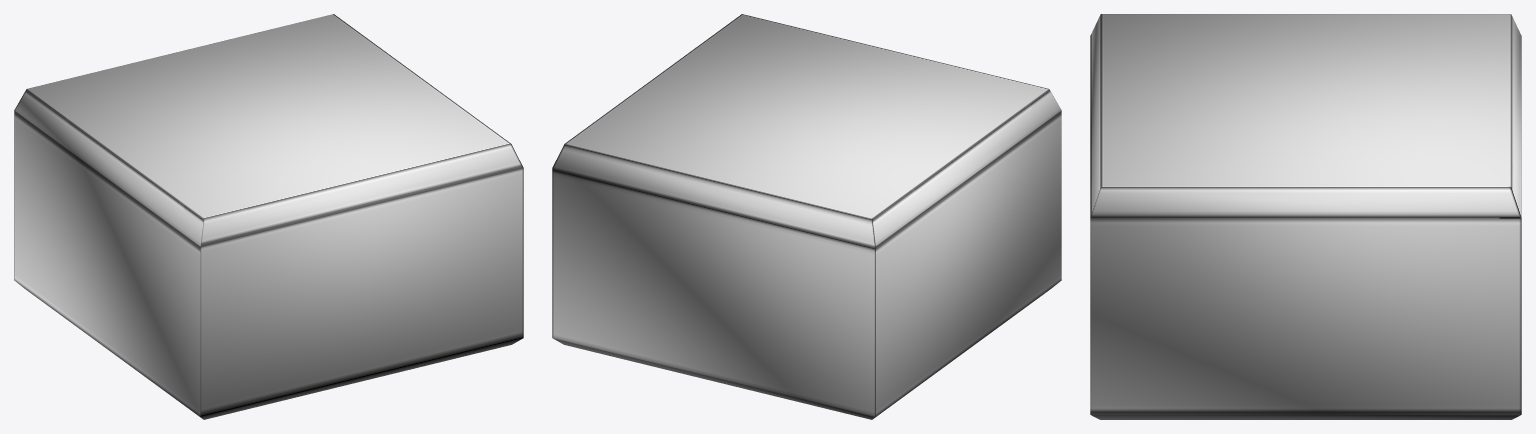
The model's file is PlataformaCuadradaLarga.fbx.
3 views of the same model, side by side, from view 1: azimuth 30°, elevation 25°; view 2: azimuth 150°, elevation 25°; view 3: azimuth 270°, elevation 25° (orthographic). The views are drawn at different scales.
Parts seen in each view (by area): view 1: Plane; view 2: Plane; view 3: Plane.
Boxes of the visible parts, x1=… form: Plane: x1=14, y1=14, x2=523, y2=419; Plane: x1=552, y1=14, x2=1061, y2=419; Plane: x1=1090, y1=14, x2=1521, y2=419.
Size of the model in its own units: 210 by 125 by 210.
Materials: 3 (3 with a texture image).
